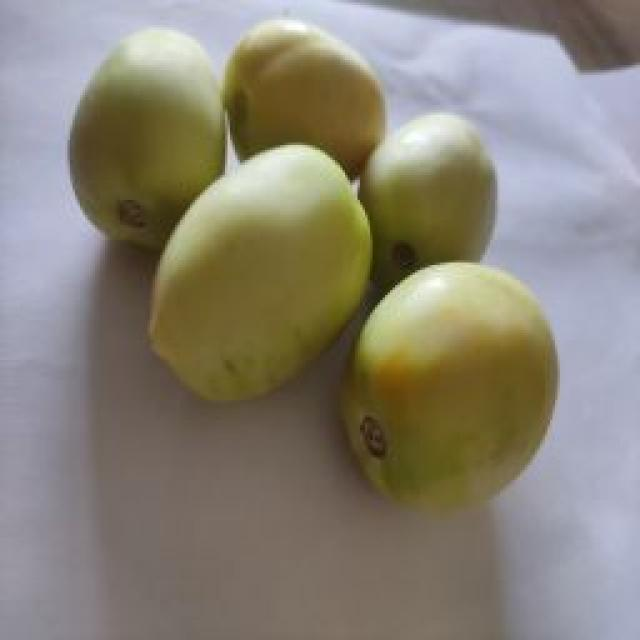tomato: (146, 143, 372, 404), (345, 258, 558, 507), (68, 27, 226, 244), (222, 23, 389, 186), (362, 114, 498, 281)
